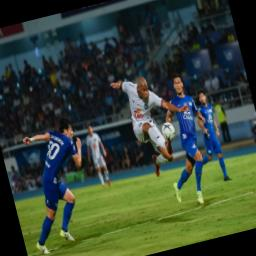football: (160, 120, 177, 142)
